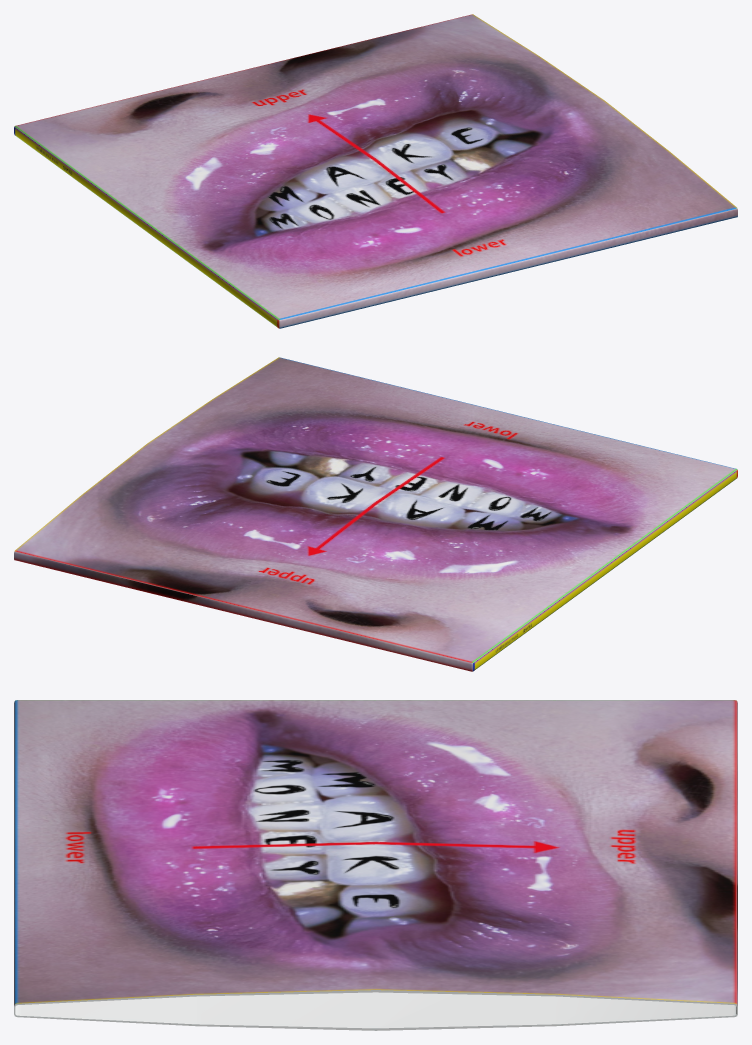
Rendered from sleeve_10_double.dae.
3 views of the same model, one above another, from view 1: azimuth 30°, elevation 25°; view 2: azimuth 150°, elevation 25°; view 3: azimuth 270°, elevation 25° (orthographic). The views are drawn at different scales.
Visible parts, largest first — view 1: sleeve; view 2: sleeve; view 3: sleeve.
Boxes of the visible parts, x1,y1,x2,y2 form: sleeve: (14, 14, 737, 328); sleeve: (14, 357, 737, 671); sleeve: (14, 700, 737, 1030).
Size of the model in its own units: 26.38 by 1.65 by 26.48.
Materials: 1 (1 with a texture image).
